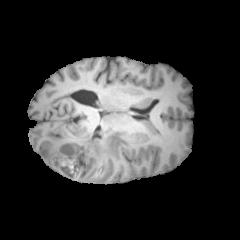glioma: (40, 127, 128, 182)
